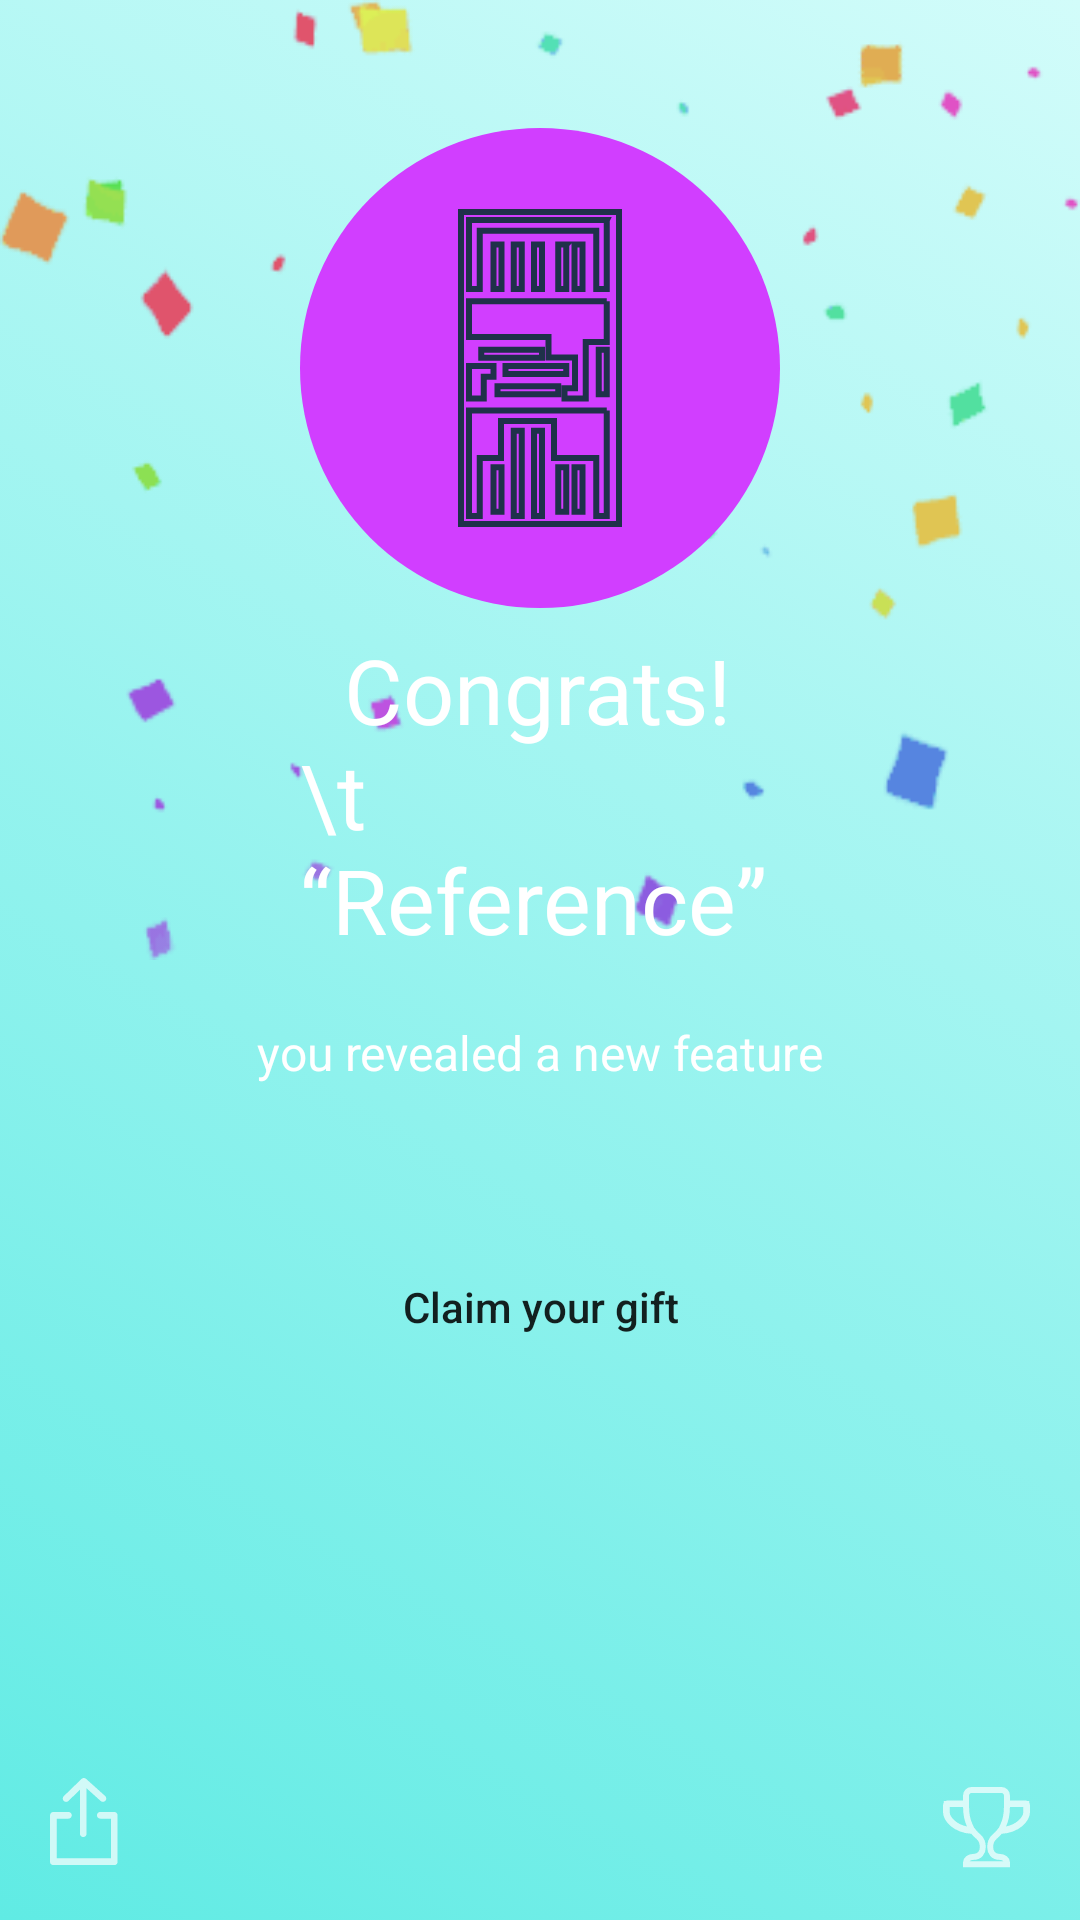

Icon bounding boxes for this 1080*1920 phone screenshot, format (x1, y1, x2, y2):
achievements: (943, 1787, 1030, 1867)
share: (50, 1778, 118, 1865)
